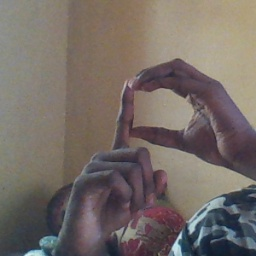P: (77, 54, 222, 216)
